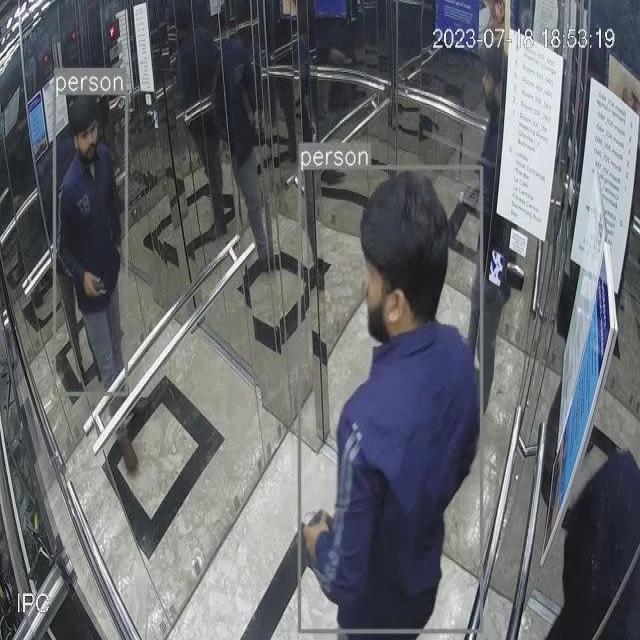person: (300, 166, 483, 640), (54, 92, 129, 393)
